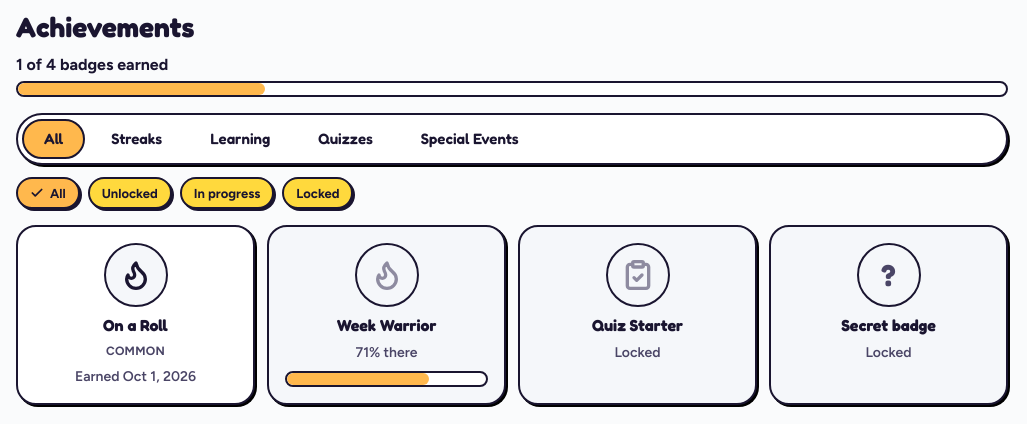
Test: AchievementsPage › narrows the grid with the category tabs
Expected: the list named "Badges" is shown, [16,225,1008,405]
What coordinates should you click on to do the following:
click the tab "Quizzes"
I would click on:
 (346, 139)
Its box is [296,119,395,159].
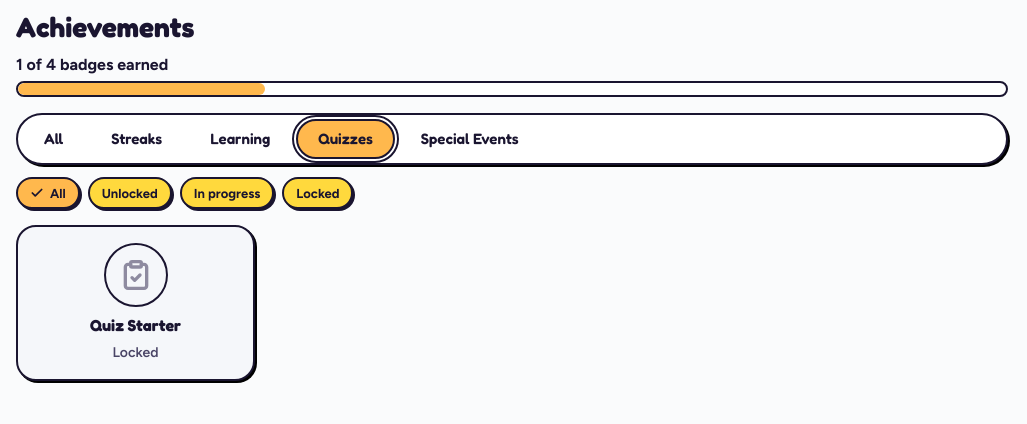
Expected: the text "Quiz Starter" is shown, [90,315,181,335]
Now the number of list items is 1, box [16,225,255,381]
